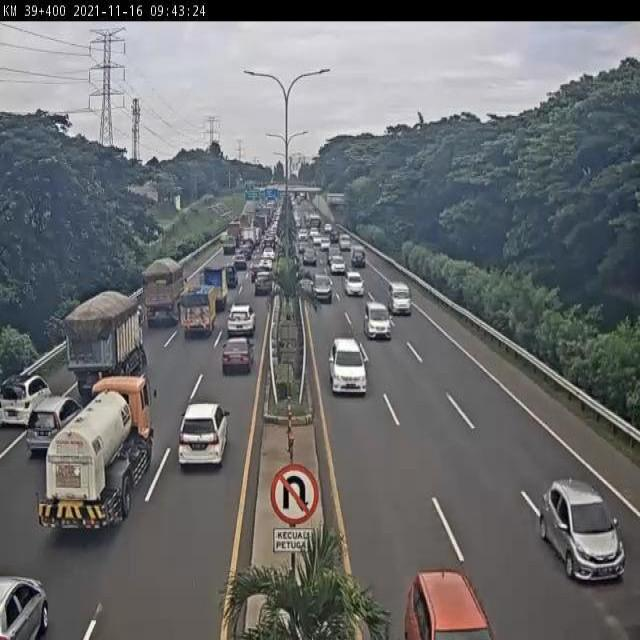car: (535, 473, 631, 598), (395, 558, 500, 640), (0, 347, 55, 445), (0, 564, 66, 635), (176, 393, 229, 476), (24, 387, 85, 448), (326, 334, 371, 402), (215, 338, 257, 374), (364, 300, 395, 347), (222, 304, 261, 339), (384, 278, 413, 318), (310, 269, 336, 304), (342, 272, 369, 303), (299, 243, 322, 273), (326, 252, 350, 276), (222, 264, 243, 291), (217, 235, 241, 257), (253, 274, 272, 298), (233, 253, 249, 272), (249, 261, 263, 280)
small truck: (196, 262, 230, 314), (180, 292, 214, 337), (349, 243, 371, 276)
truck-m-: (39, 367, 168, 544), (62, 291, 147, 392), (142, 260, 196, 325)
